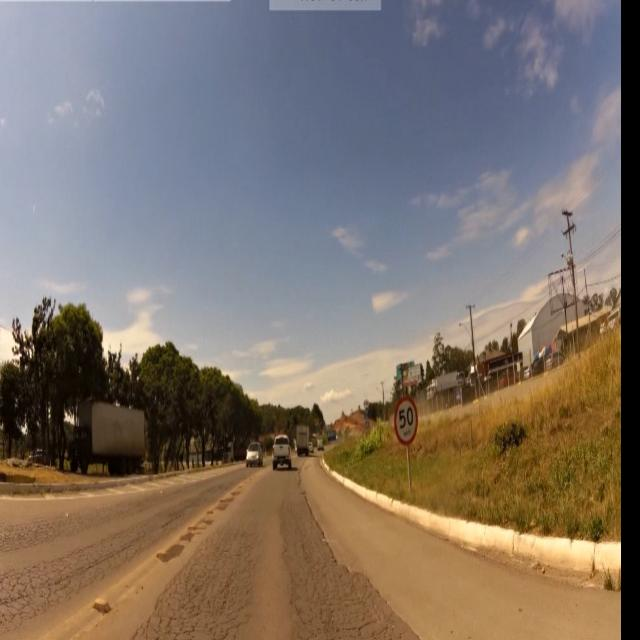R-19: (394, 396, 420, 452)
